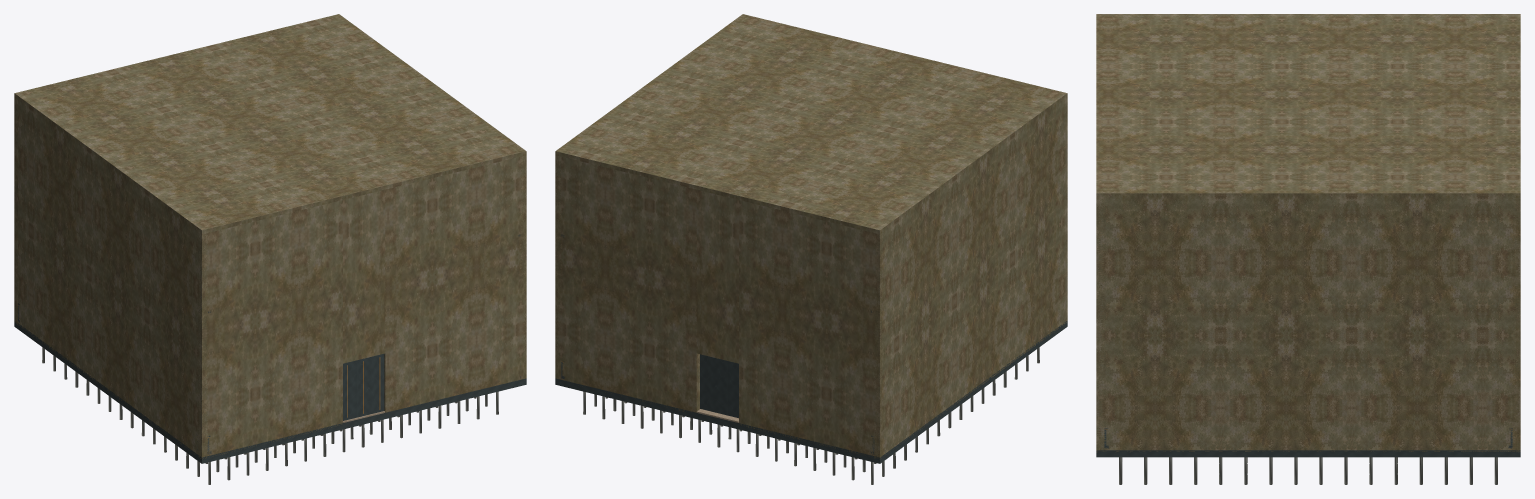
The model's file is Sala-do-Vigia.glb.
3 views of the same model, side by side, from view 1: azimuth 30°, elevation 25°; view 2: azimuth 150°, elevation 25°; view 3: azimuth 270°, elevation 25° (orthographic). The views are drawn at different scales.
Visible parts, largest first — view 1: ParedeS__Reboco, Abobada__Reboco, ParedeO__Reboco, Fundacao__Basalto, PortaSul__Basalto, ParedeL__Reboco, ParedeN__Reboco, Agulhas_30__Aco, Agulhas_33__Aco; view 2: ParedeN__Reboco, Abobada__Reboco, ParedeO__Reboco, Fundacao__Basalto, Rei_Batente__Basalto, ParedeL__Reboco, Agulhas_00__Aco, Agulhas_03__Aco; view 3: ParedeL__Reboco, Abobada__Reboco, Fundacao__Basalto, ParedeS__Reboco, ParedeN__Reboco.
Part boxes in pixels (bbox=[...]): ParedeS__Reboco: bbox=[198, 155, 526, 458]; Abobada__Reboco: bbox=[14, 14, 526, 234]; ParedeO__Reboco: bbox=[14, 100, 207, 459]; Fundacao__Basalto: bbox=[14, 320, 526, 463]; PortaSul__Basalto: bbox=[343, 354, 384, 420]; ParedeL__Reboco: bbox=[520, 155, 526, 378]; ParedeN__Reboco: bbox=[14, 97, 17, 324]; Agulhas_30__Aco: bbox=[175, 444, 268, 484]; Agulhas_33__Aco: bbox=[416, 391, 498, 428]; ParedeN__Reboco: bbox=[555, 156, 883, 459]; Abobada__Reboco: bbox=[555, 14, 1067, 234]; ParedeO__Reboco: bbox=[874, 97, 1067, 458]; Fundacao__Basalto: bbox=[555, 321, 1067, 463]; Rei_Batente__Basalto: bbox=[700, 354, 738, 418]; ParedeL__Reboco: bbox=[555, 155, 561, 378]; Agulhas_00__Aco: bbox=[813, 444, 906, 484]; Agulhas_03__Aco: bbox=[583, 391, 665, 428]; ParedeL__Reboco: bbox=[1096, 197, 1520, 452]; Abobada__Reboco: bbox=[1096, 14, 1520, 197]; Fundacao__Basalto: bbox=[1096, 450, 1520, 457]; ParedeS__Reboco: bbox=[1096, 198, 1104, 451]; ParedeN__Reboco: bbox=[1512, 197, 1520, 451].
Bounding box in the file's own units: 55 × 43.12 × 55.
29 materials, 29 textured.
